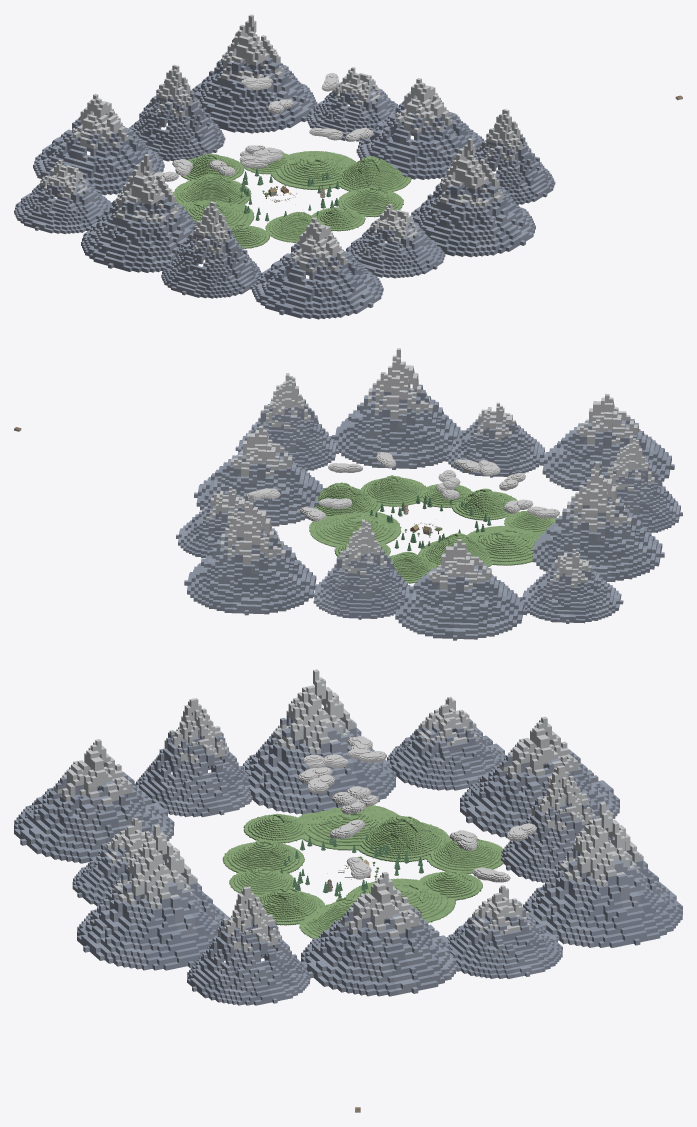
File: farm.glb
The picture shows the model from 3 angles, top to bottom: view 1: azimuth 30°, elevation 25°; view 2: azimuth 150°, elevation 25°; view 3: azimuth 270°, elevation 25°; orthographic projection. The views are drawn at different scales.
Parts seen in each view (by area): view 1: prop_176_nc, prop_186_nc, prop_180_nc, prop_184_nc, prop_178_nc, prop_182_nc, prop_185_nc, prop_181_nc, prop_183_nc, prop_175_nc, prop_177_nc, prop_179_nc (+9 smaller); view 2: prop_180_nc, prop_176_nc, prop_182_nc, prop_184_nc, prop_178_nc, prop_186_nc, prop_181_nc, prop_183_nc, prop_177_nc, prop_175_nc, prop_185_nc, prop_179_nc (+9 smaller); view 3: prop_180_nc, prop_176_nc, prop_178_nc, prop_184_nc, prop_186_nc, prop_177_nc, prop_185_nc, prop_182_nc, prop_179_nc, prop_183_nc, prop_181_nc, prop_175_nc (+10 smaller).
Part boxes in pixels (x1=…): prop_176_nc: x1=411, y1=138, x2=535, y2=257; prop_186_nc: x1=252, y1=217, x2=383, y2=319; prop_180_nc: x1=192, y1=14, x2=317, y2=133; prop_184_nc: x1=81, y1=154, x2=196, y2=272; prop_178_nc: x1=356, y1=78, x2=483, y2=179; prop_182_nc: x1=33, y1=93, x2=164, y2=195; prop_185_nc: x1=161, y1=201, x2=261, y2=298; prop_181_nc: x1=129, y1=64, x2=225, y2=161; prop_183_nc: x1=14, y1=159, x2=111, y2=234; prop_175_nc: x1=346, y1=204, x2=445, y2=278; prop_177_nc: x1=474, y1=109, x2=555, y2=204; prop_179_nc: x1=307, y1=67, x2=398, y2=141; prop_180_nc: x1=184, y1=493, x2=318, y2=615; prop_176_nc: x1=331, y1=348, x2=463, y2=469; prop_182_nc: x1=395, y1=539, x2=527, y2=640; prop_184_nc: x1=530, y1=461, x2=664, y2=581; prop_178_nc: x1=194, y1=426, x2=325, y2=526; prop_186_nc: x1=540, y1=393, x2=674, y2=490; prop_181_nc: x1=313, y1=519, x2=410, y2=619; prop_183_nc: x1=520, y1=548, x2=623, y2=623; prop_177_nc: x1=235, y1=373, x2=339, y2=471; prop_175_nc: x1=445, y1=402, x2=544, y2=477; prop_185_nc: x1=604, y1=435, x2=682, y2=532; prop_179_nc: x1=176, y1=486, x2=277, y2=558; prop_180_nc: x1=523, y1=802, x2=682, y2=947; prop_176_nc: x1=77, y1=824, x2=229, y2=970; prop_178_nc: x1=301, y1=871, x2=458, y2=996; prop_184_nc: x1=242, y1=669, x2=396, y2=814; prop_186_nc: x1=14, y1=739, x2=174, y2=863; prop_177_nc: x1=187, y1=886, x2=310, y2=1005; prop_185_nc: x1=134, y1=698, x2=252, y2=817; prop_182_nc: x1=460, y1=716, x2=619, y2=840; prop_179_nc: x1=446, y1=885, x2=562, y2=978; prop_183_nc: x1=387, y1=696, x2=505, y2=790; prop_181_nc: x1=501, y1=765, x2=610, y2=882; prop_175_nc: x1=72, y1=818, x2=164, y2=906.
Bounding box in the file's own units: 939 × 130 × 710.
